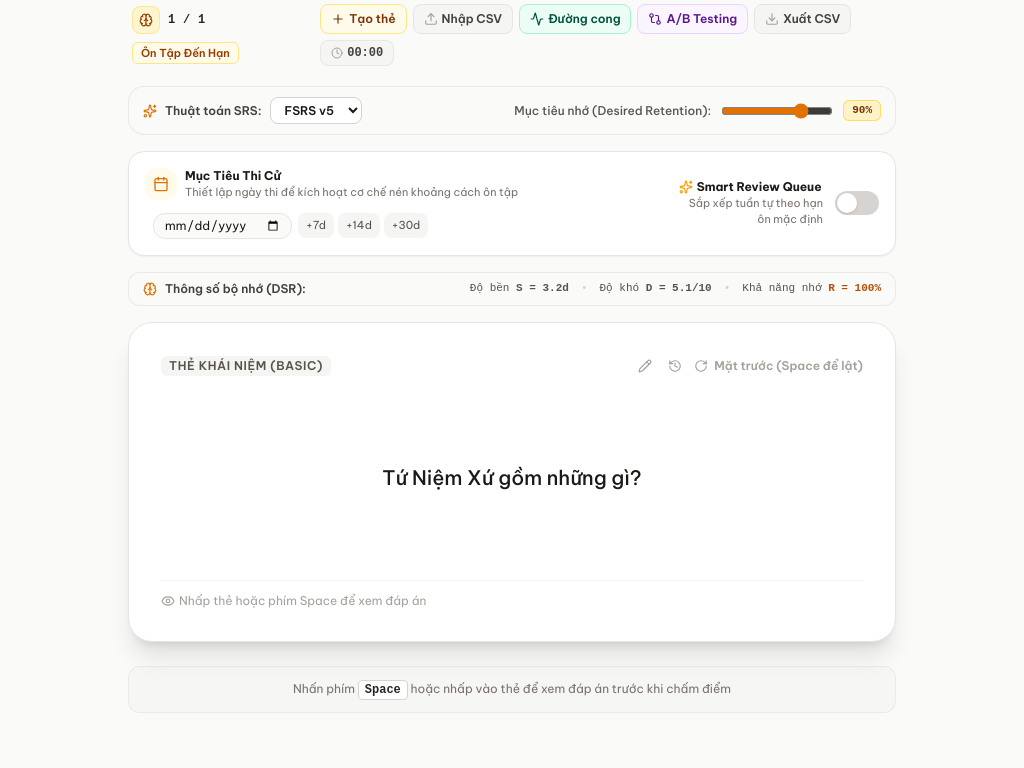
Test case: FlashcardReviewStudio Integration Tests (Gherkin Scenarios 1-10) › Scenario 7: Người dùng hoàn thành toàn bộ thẻ trong phiên (Celebration)
Expected: the text "Tứ Niệm Xứ gồm những gì?" is shown, 382,465 -> 642,490
Lật và chấm điểm (dùng click để phục vụ kiểm tra celebration flow)
Click the button with test id "flashcard-card" at (512, 622), box 128,322 -> 896,642
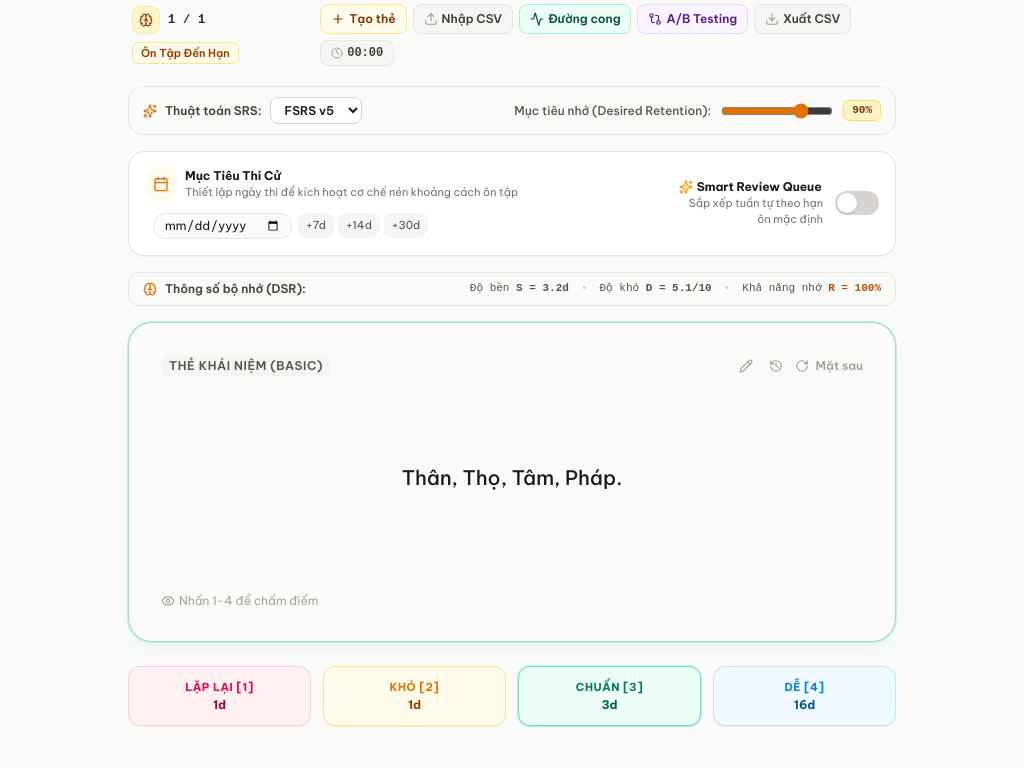
Now the text "Thân, Thọ, Tâm, Pháp." is shown, box 402,465 -> 622,490
Click the button with test id "rating-btn-3" at (610, 696), box 518,666 -> 701,726
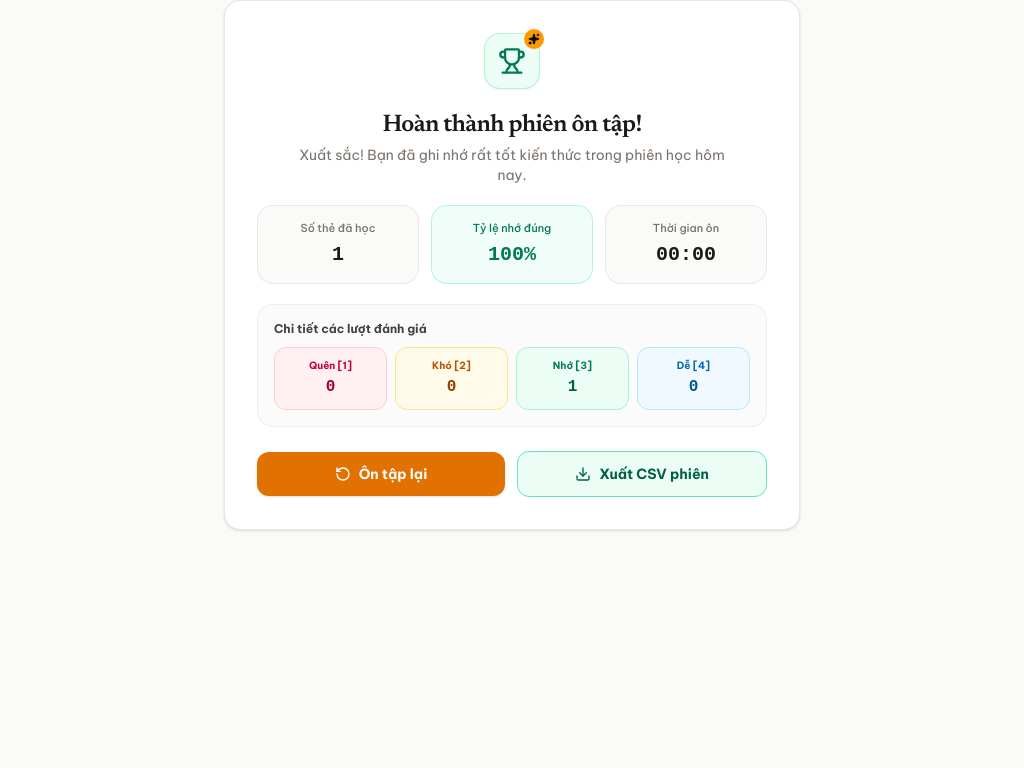
Now the element with test id "session-completed-view" is shown, box 224,0 -> 800,530
Now the heading "Hoàn thành phiên ôn tập!" is shown, box 382,113 -> 642,137
Now the button with test id "btn-review-again" is shown, box 257,452 -> 505,496
